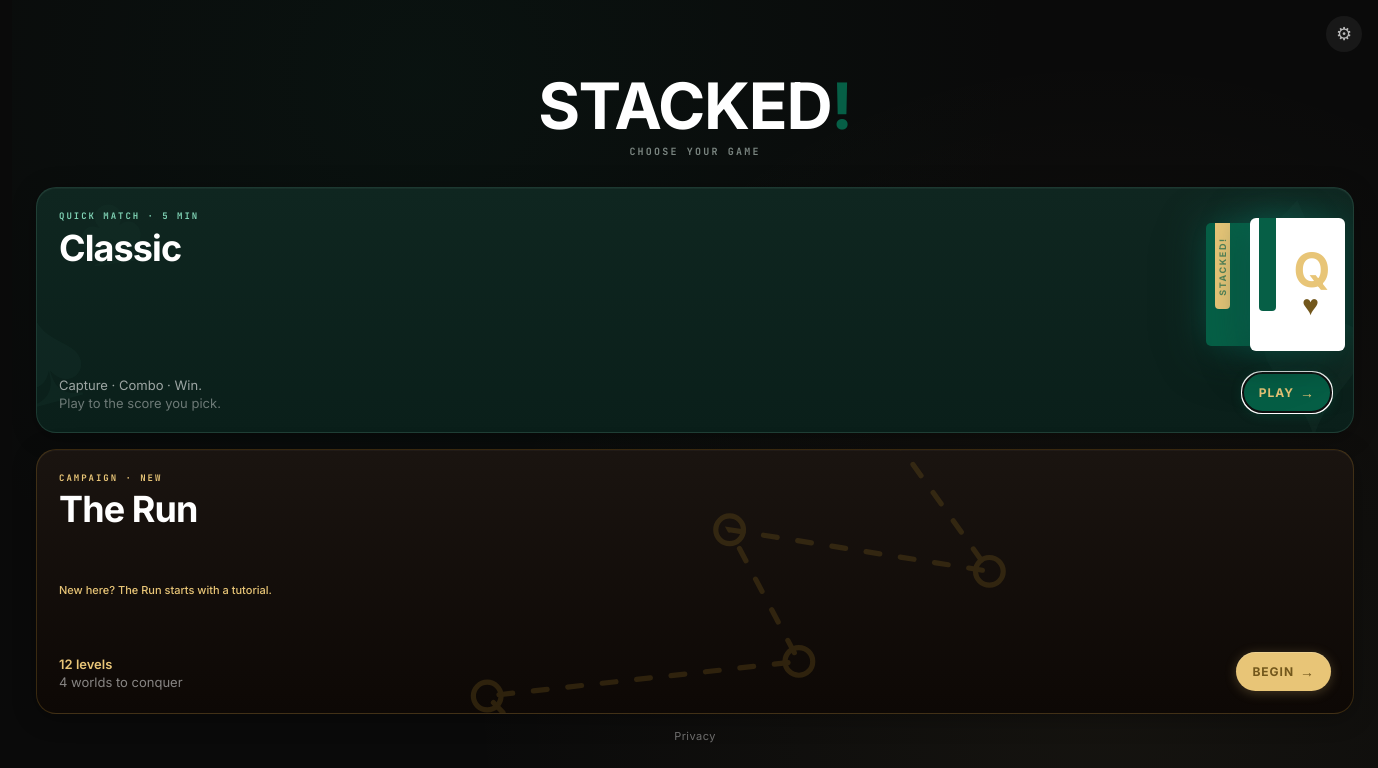
Test: the Classic card on the home screen (S-021) › PLAY is a button that takes focus, and clicking it opens Classic Setup
Click the button "PLAY →". click: (1287, 392)
box: [1243,373,1331,412]
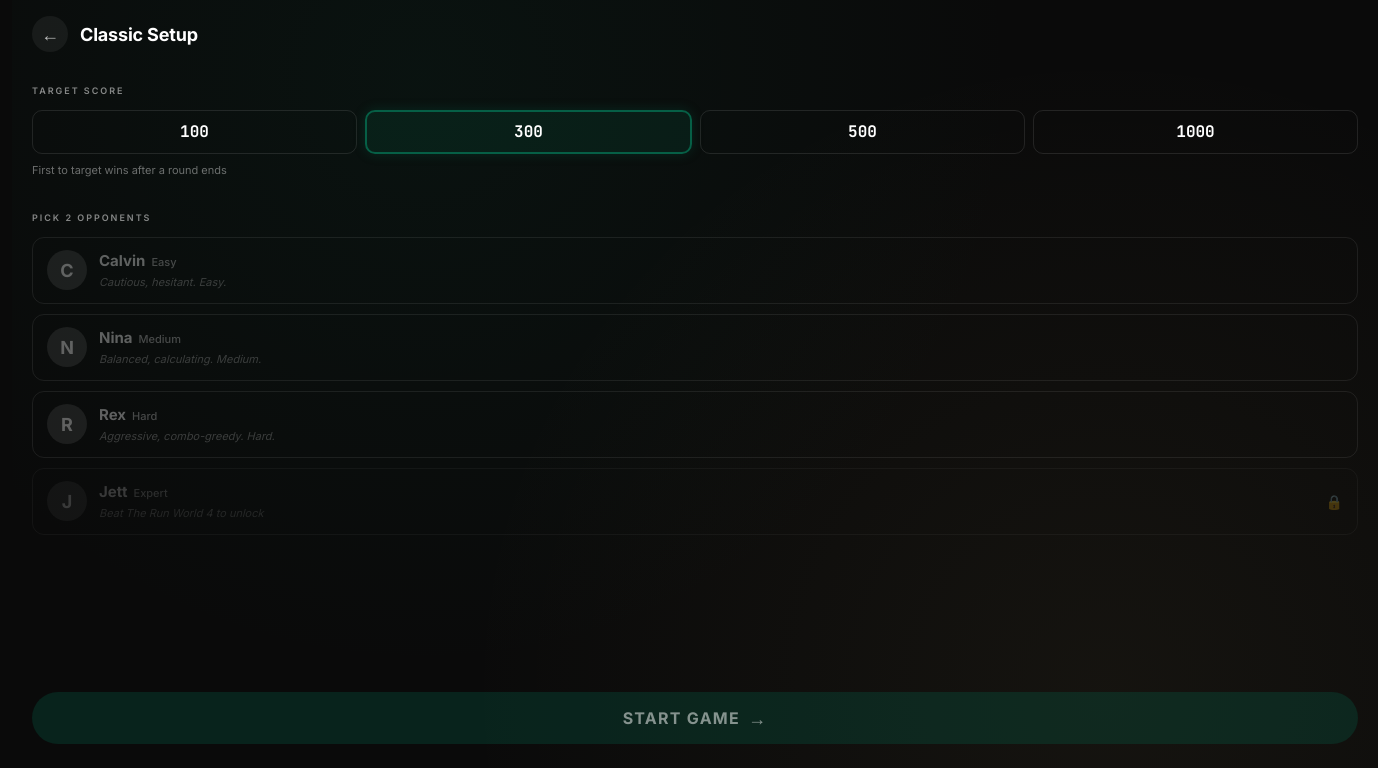
expect the heading "Classic Setup" is shown: met, box [80,20,198,48]
